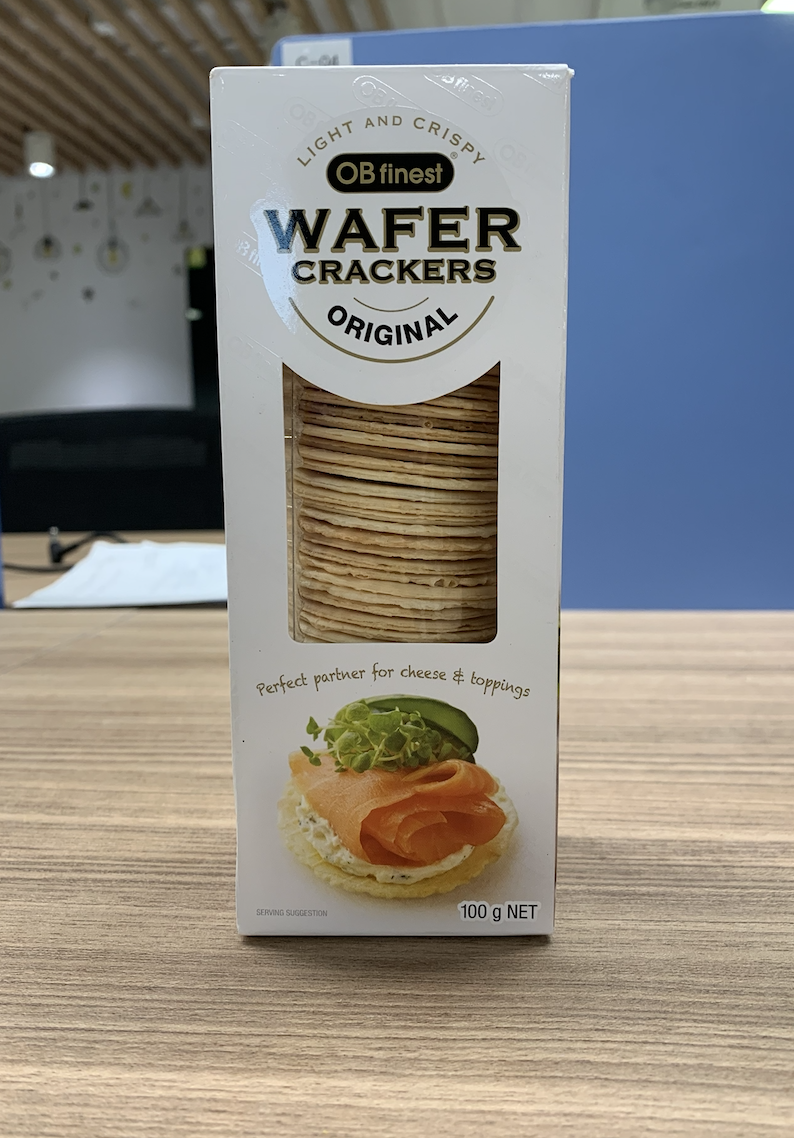crackers_100g-199g: (240, 99, 547, 927)
